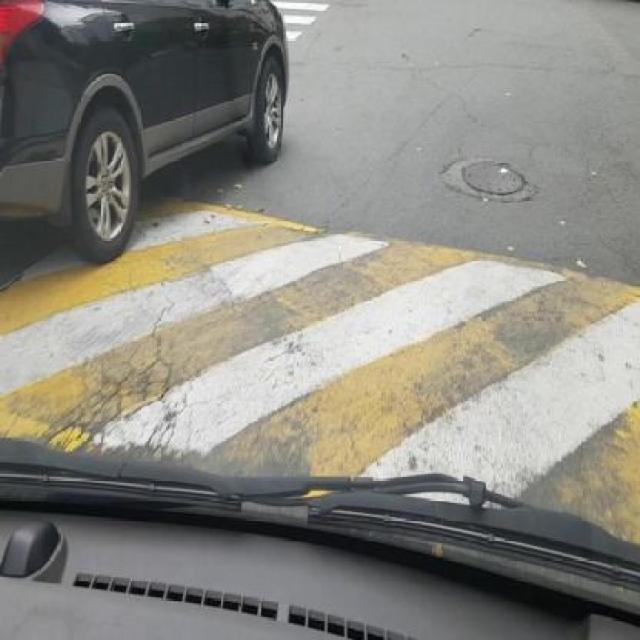Manhole: (462, 160, 528, 194)
Speed Bump: (0, 260, 640, 476)
